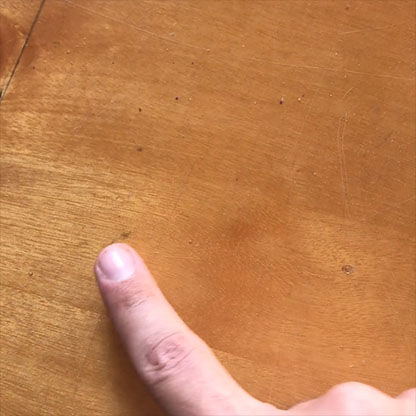fingertip: (84, 238, 154, 299)
